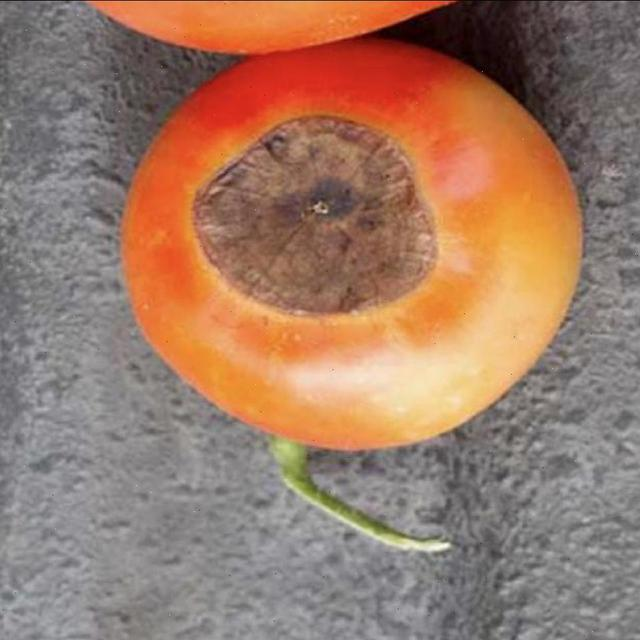Blossom End Rot Fruit: (125, 72, 295, 212)
